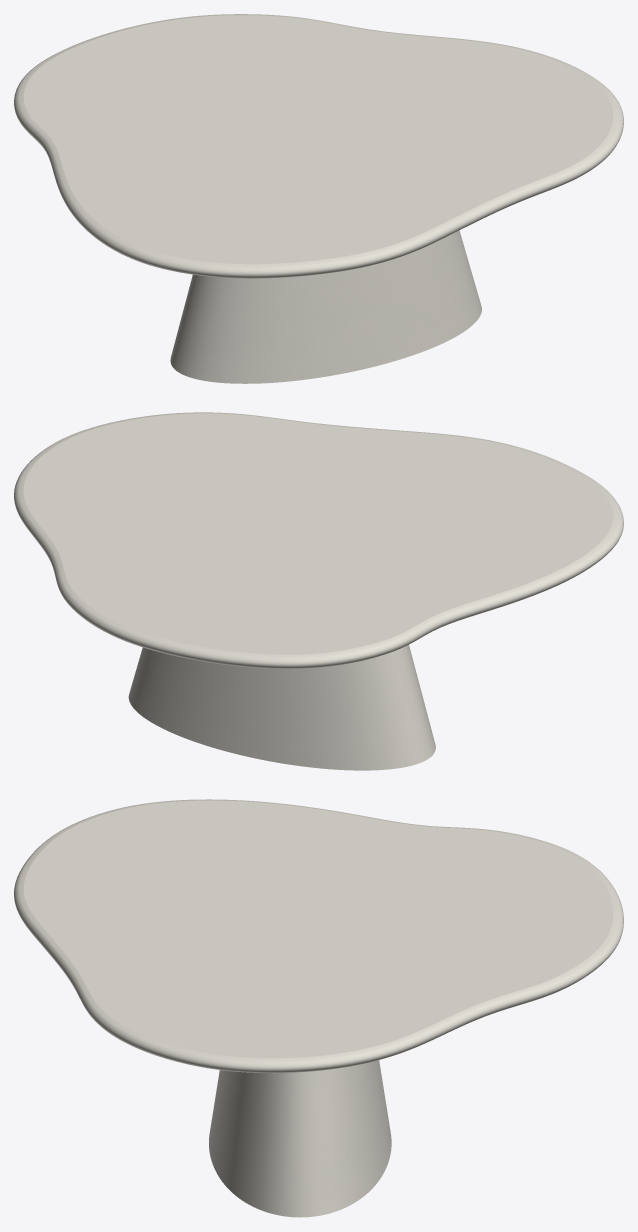
Rendered from pale_topone_round_eqone.glb.
3 views of the same model, one above another, from view 1: azimuth 30°, elevation 25°; view 2: azimuth 150°, elevation 25°; view 3: azimuth 270°, elevation 25° (orthographic). The views are drawn at different scales.
Parts seen in each view (by area): view 1: round_topone, eqone; view 2: round_topone, eqone; view 3: round_topone, eqone.
Part boxes in pixels (left/top/right/bottom): round_topone: left=14, top=14, right=623, bottom=278; eqone: left=170, top=230, right=481, bottom=383; round_topone: left=14, top=412, right=623, bottom=668; eqone: left=128, top=645, right=435, bottom=770; round_topone: left=14, top=799, right=623, bottom=1073; eqone: left=209, top=1060, right=391, bottom=1217.
Size of the model in its own units: 6.83 by 2.5 by 6.6.
1 material, 1 textured.
